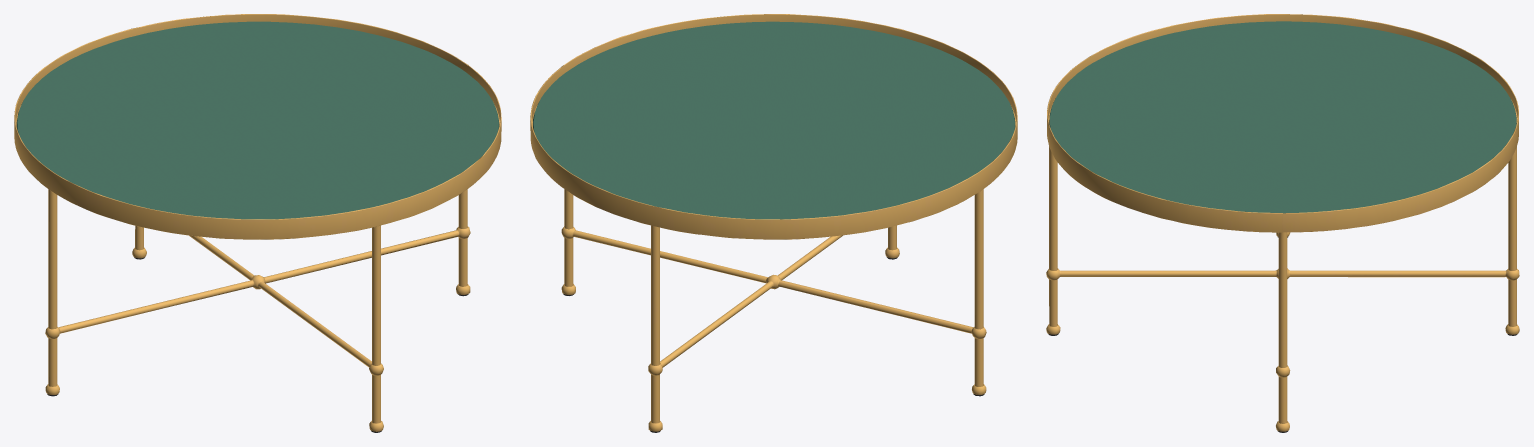
The model's file is table-3.glb.
3 views of the same model, side by side, from view 1: azimuth 30°, elevation 25°; view 2: azimuth 150°, elevation 25°; view 3: azimuth 270°, elevation 25° (orthographic). The views are drawn at different scales.
Visible parts, largest first — view 1: ASY_ART_50590406_S01_NV01, ASY_LPT05_50590406_S01_NV01, ASY_LPT08_50590406_S01_NV01, ASY_LPT09_50590406_S01_NV01, ASY_LPT03_50590406_S01_NV01, ASY_LPT02_50590406_S01_NV01; view 2: ASY_ART_50590406_S01_NV01, ASY_LPT05_50590406_S01_NV01, ASY_LPT08_50590406_S01_NV01, ASY_LPT07_50590406_S01_NV01, ASY_LPT03_50590406_S01_NV01, ASY_LPT02_50590406_S01_NV01; view 3: ASY_ART_50590406_S01_NV01, ASY_LPT05_50590406_S01_NV01, ASY_LPT06_50590406_S01_NV01, ASY_LPT09_50590406_S01_NV01, ASY_LPT07_50590406_S01_NV01, ASY_LPT03_50590406_S01_NV01.
Part boxes in pixels (x1,y1,x2,y2): ASY_ART_50590406_S01_NV01: [16, 21, 499, 432]; ASY_LPT05_50590406_S01_NV01: [14, 14, 501, 239]; ASY_LPT08_50590406_S01_NV01: [48, 189, 57, 329]; ASY_LPT09_50590406_S01_NV01: [372, 225, 380, 365]; ASY_LPT03_50590406_S01_NV01: [458, 238, 467, 286]; ASY_LPT02_50590406_S01_NV01: [48, 338, 57, 386]; ASY_ART_50590406_S01_NV01: [533, 21, 1015, 432]; ASY_LPT05_50590406_S01_NV01: [530, 14, 1017, 239]; ASY_LPT08_50590406_S01_NV01: [974, 189, 983, 329]; ASY_LPT07_50590406_S01_NV01: [651, 225, 659, 365]; ASY_LPT03_50590406_S01_NV01: [564, 238, 573, 286]; ASY_LPT02_50590406_S01_NV01: [974, 338, 983, 386]; ASY_ART_50590406_S01_NV01: [1046, 21, 1519, 432]; ASY_LPT05_50590406_S01_NV01: [1047, 14, 1518, 232]; ASY_LPT06_50590406_S01_NV01: [1278, 232, 1287, 367]; ASY_LPT09_50590406_S01_NV01: [1049, 146, 1057, 270]; ASY_LPT07_50590406_S01_NV01: [1508, 146, 1516, 270]; ASY_LPT03_50590406_S01_NV01: [1278, 376, 1287, 423].
Bounding box in the file's own units: 0.8845 × 0.454 × 0.8849.
11 materials, 11 textured.
